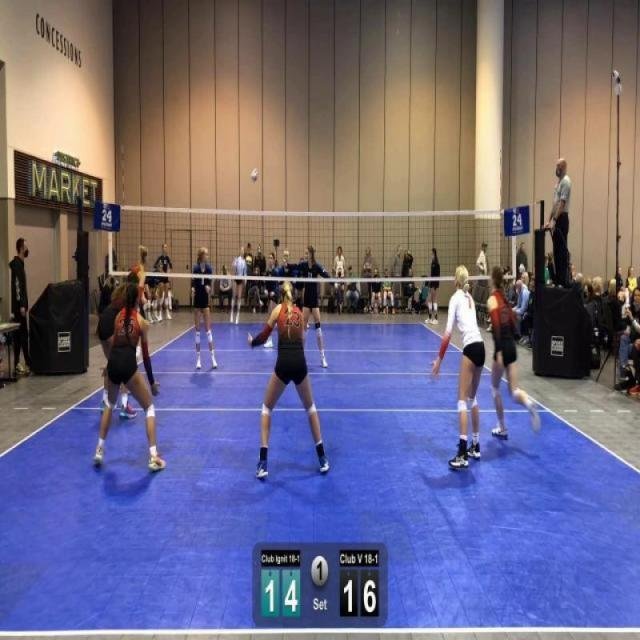volleyball: (250, 166, 259, 184)
